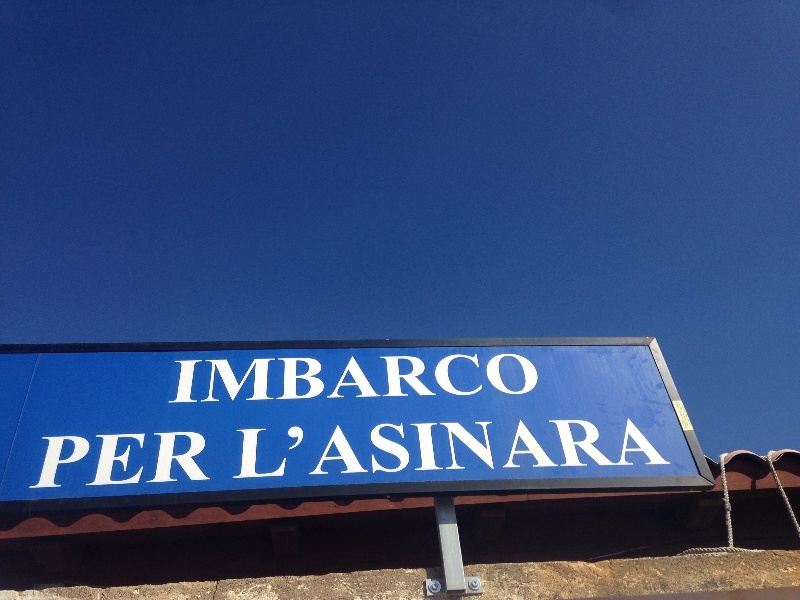text: (241, 416, 256, 484), (257, 416, 272, 484), (273, 416, 288, 484), (289, 416, 304, 484), (305, 416, 320, 484), (321, 416, 336, 484), (337, 416, 352, 484), (353, 416, 368, 484), (369, 416, 384, 484), (385, 416, 400, 484), (401, 416, 416, 484), (417, 416, 432, 484), (433, 416, 448, 484), (449, 416, 464, 484), (465, 416, 480, 484), (481, 416, 496, 484), (497, 416, 512, 484), (513, 416, 528, 484), (529, 416, 544, 484), (545, 416, 560, 484), (561, 416, 576, 484), (577, 416, 592, 484), (593, 416, 608, 484), (609, 416, 624, 484), (625, 416, 640, 484), (641, 416, 656, 484), (657, 416, 672, 484), (49, 430, 64, 495), (65, 430, 80, 495), (81, 430, 96, 495), (97, 430, 112, 495), (113, 430, 128, 495), (129, 430, 144, 495), (145, 430, 160, 495), (161, 430, 176, 495), (177, 430, 192, 495), (193, 430, 208, 495), (177, 353, 192, 408), (193, 353, 208, 408), (209, 353, 224, 408), (225, 353, 240, 408), (241, 353, 256, 408), (257, 353, 272, 408), (273, 353, 288, 408), (289, 353, 304, 408), (305, 353, 320, 408), (321, 353, 336, 408), (337, 353, 352, 408), (353, 353, 368, 408), (369, 353, 384, 408), (385, 353, 400, 408), (401, 353, 416, 408), (417, 353, 432, 408), (433, 353, 448, 408), (449, 353, 464, 408), (465, 353, 480, 408), (481, 353, 496, 408), (497, 353, 512, 408), (513, 353, 528, 408), (529, 353, 542, 408), (41, 430, 48, 495), (235, 416, 240, 484), (209, 430, 213, 495), (673, 416, 676, 484), (174, 353, 176, 408)
